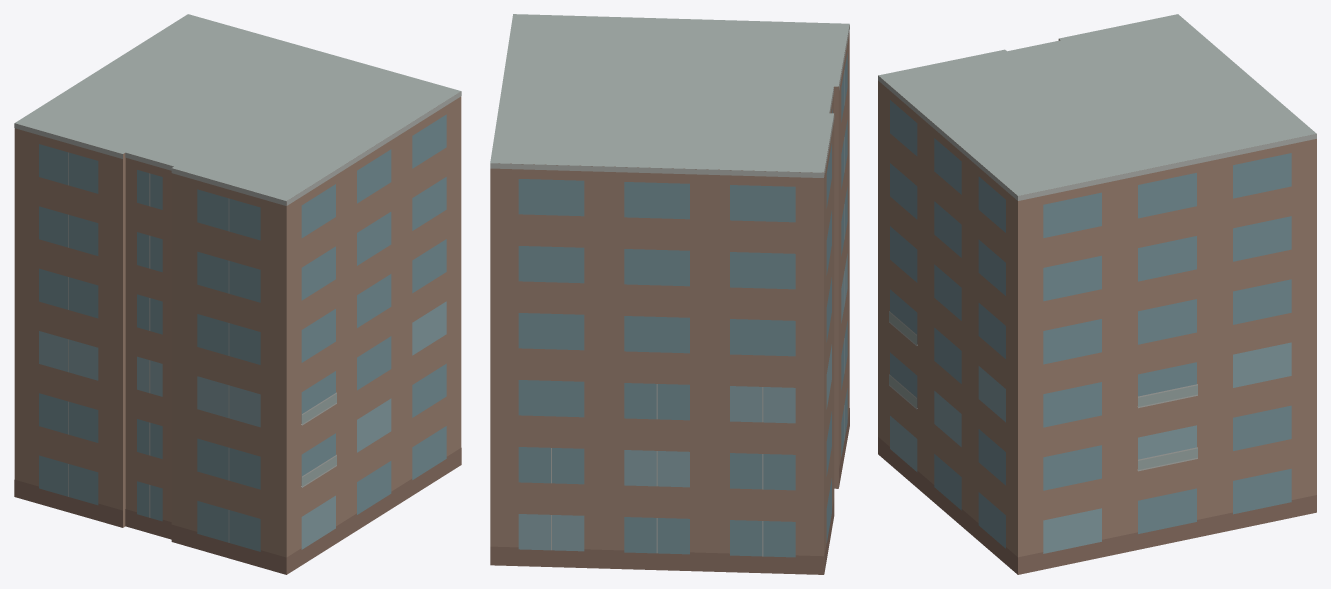
The model's file is survey-upis-32736543.glb.
3 views of the same model, side by side, from view 1: azimuth 30°, elevation 25°; view 2: azimuth 150°, elevation 25°; view 3: azimuth 270°, elevation 25° (orthographic). The views are drawn at different scales.
Parts seen in each view (by area): view 1: survey-upis-32736543.tmp; view 2: survey-upis-32736543.tmp; view 3: survey-upis-32736543.tmp.
Boxes of the visible parts, x1,y1,x2,y2 form: survey-upis-32736543.tmp: (14,14,461,574); survey-upis-32736543.tmp: (490,14,849,574); survey-upis-32736543.tmp: (878,14,1316,574).
Size of the model in its own units: 18.87 by 18.3 by 19.21.
